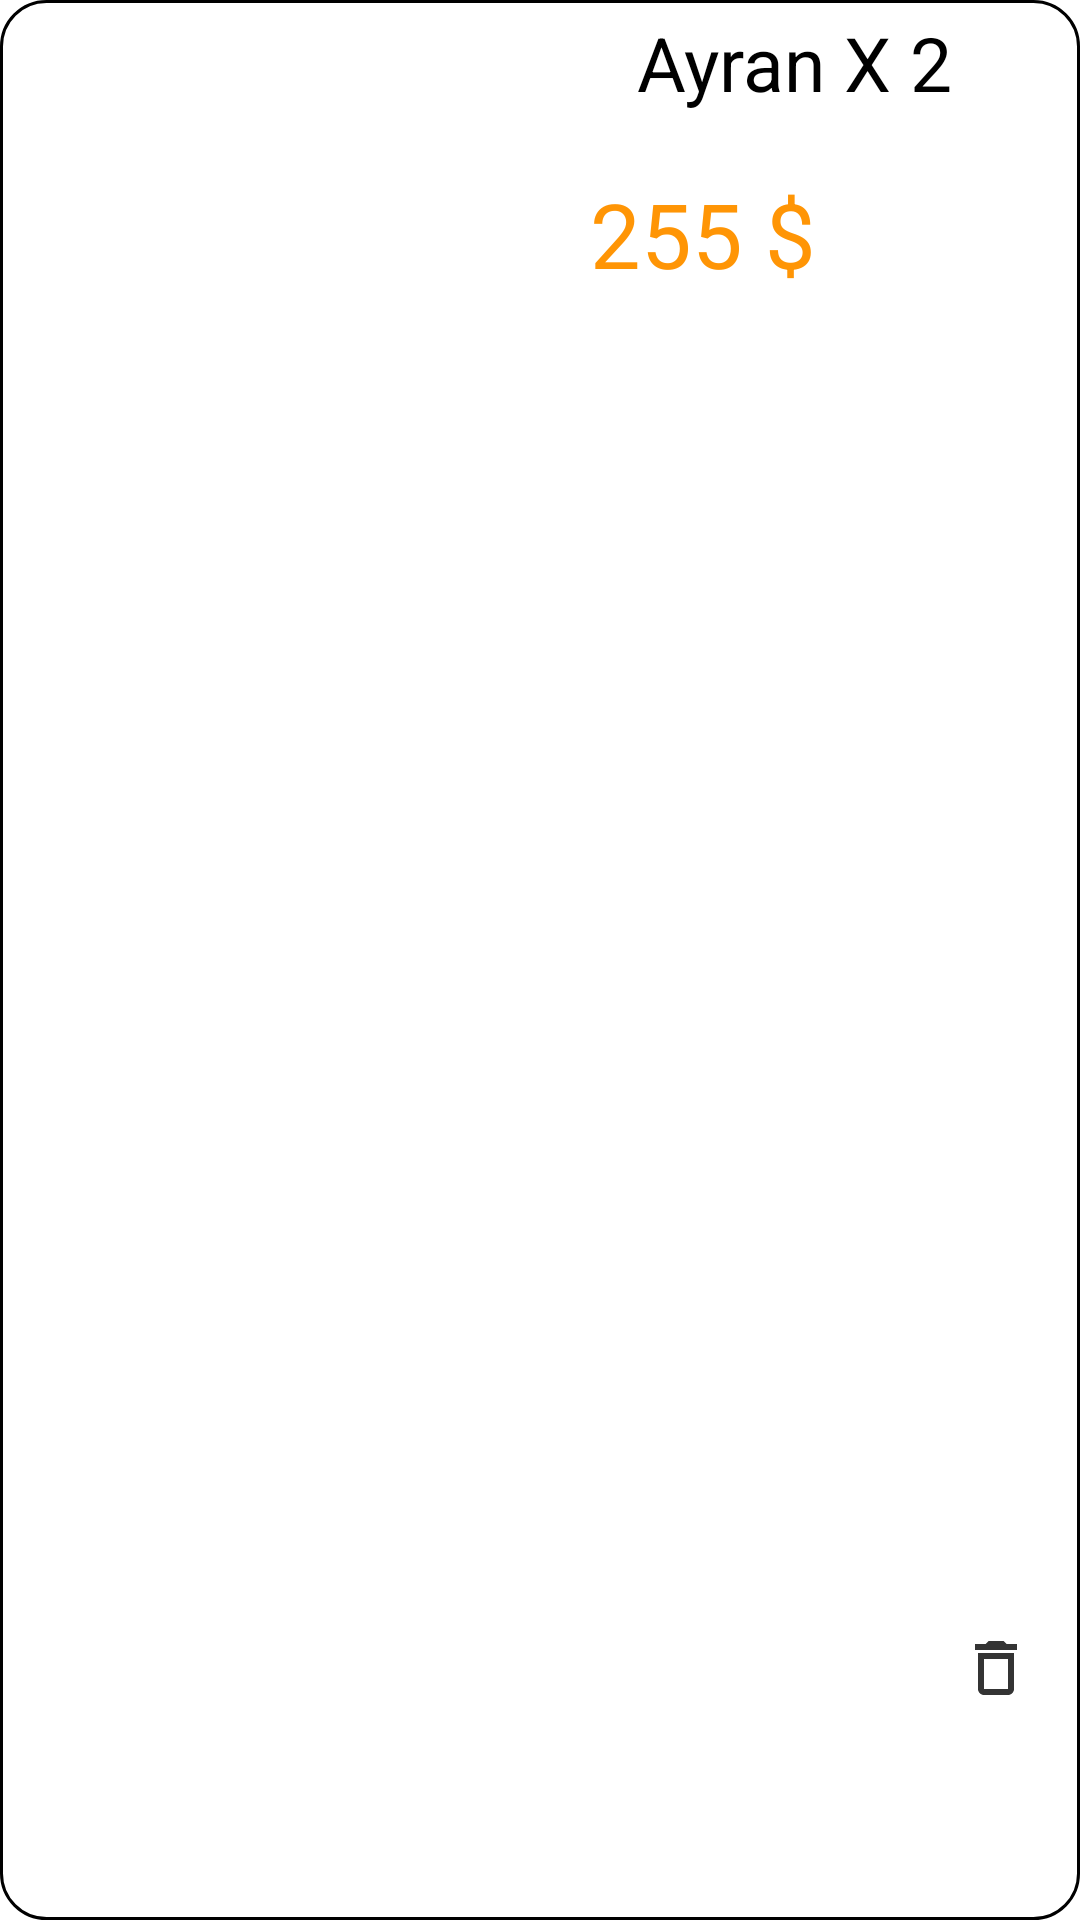

Icon click points for this 1080*1920 phone screenshot, format (x=x, y=y):
delete: (x=996, y=1668)
